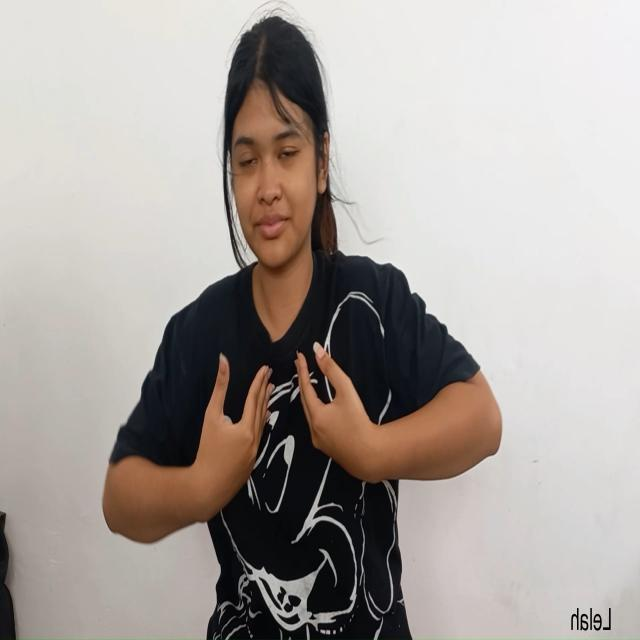Lelah -BISINDO-: (101, 339, 503, 547)
